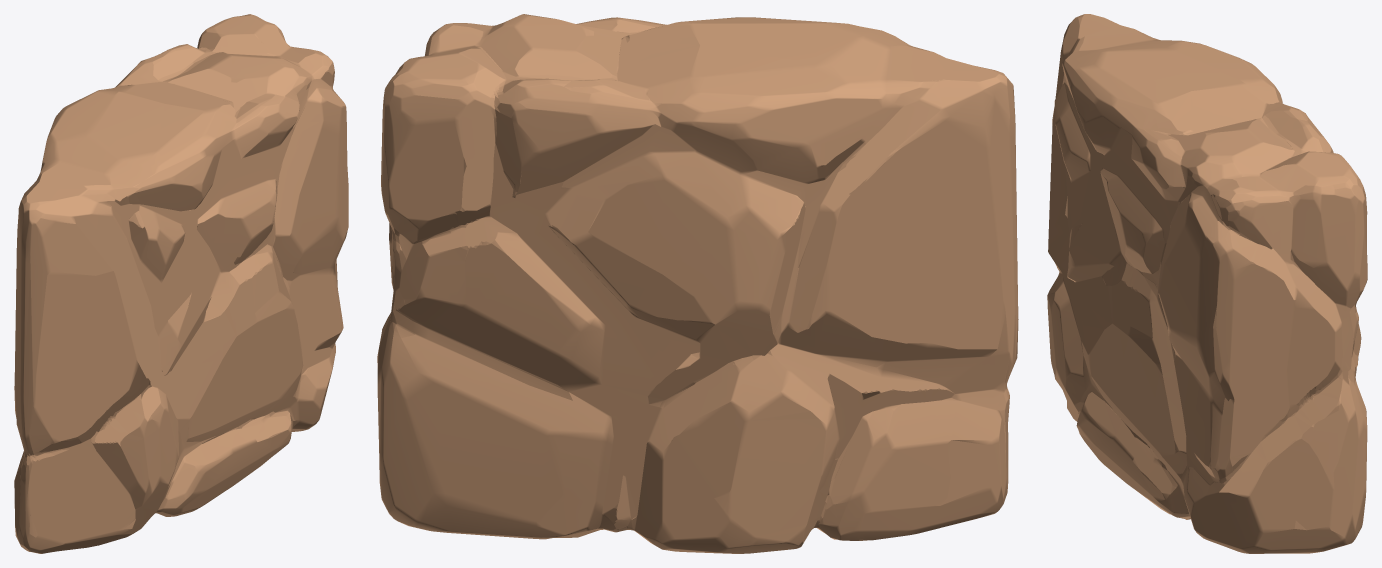
3 views of the same model, side by side, from view 1: azimuth 30°, elevation 25°; view 2: azimuth 150°, elevation 25°; view 3: azimuth 270°, elevation 25° (orthographic). The views are drawn at different scales.
Parts seen in each view (by area): view 1: Mesh_33_LOD0; view 2: Mesh_33_LOD0; view 3: Mesh_33_LOD0.
Boxes of the visible parts, bbox=[...] form: Mesh_33_LOD0: bbox=[14, 14, 348, 553]; Mesh_33_LOD0: bbox=[377, 14, 1018, 553]; Mesh_33_LOD0: bbox=[1047, 14, 1367, 553].
Size of what is drawn, in the model's own units: 2379 by 2143 by 1635.
